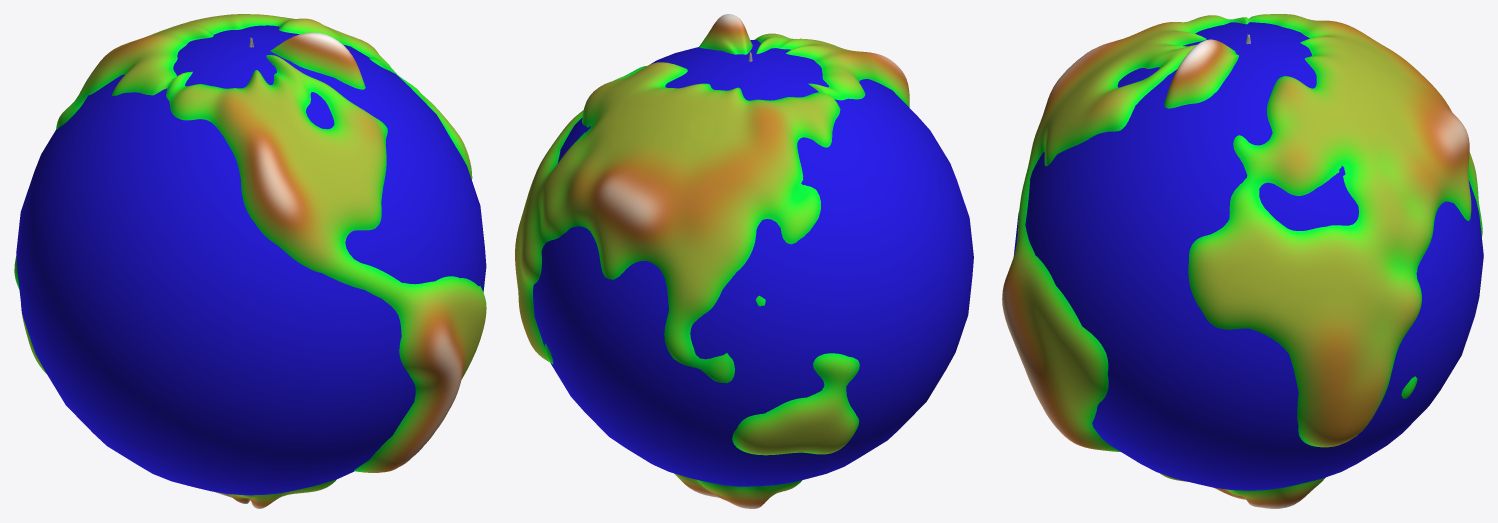
The model's file is hello-displacement-planet2.glb.
The picture shows the model from 3 angles, left to right: view 1: azimuth 30°, elevation 25°; view 2: azimuth 150°, elevation 25°; view 3: azimuth 270°, elevation 25°; orthographic projection. The views are drawn at different scales.
Visible parts, largest first — view 1: Sea-uv2, Planet-uv2; view 2: Sea-uv2, Planet-uv2; view 3: Planet-uv2, Sea-uv2.
Boxes of the visible parts, x1,y1,x2,y2 form: Sea-uv2: (16, 25, 486, 495); Planet-uv2: (14, 14, 486, 508); Sea-uv2: (533, 40, 973, 486); Planet-uv2: (515, 14, 909, 508); Planet-uv2: (1002, 14, 1482, 508); Sea-uv2: (1014, 22, 1483, 490).
Bounding box in the file's own units: 2.01 × 2.23 × 2.05.
Materials: 2 (1 with a texture image).
